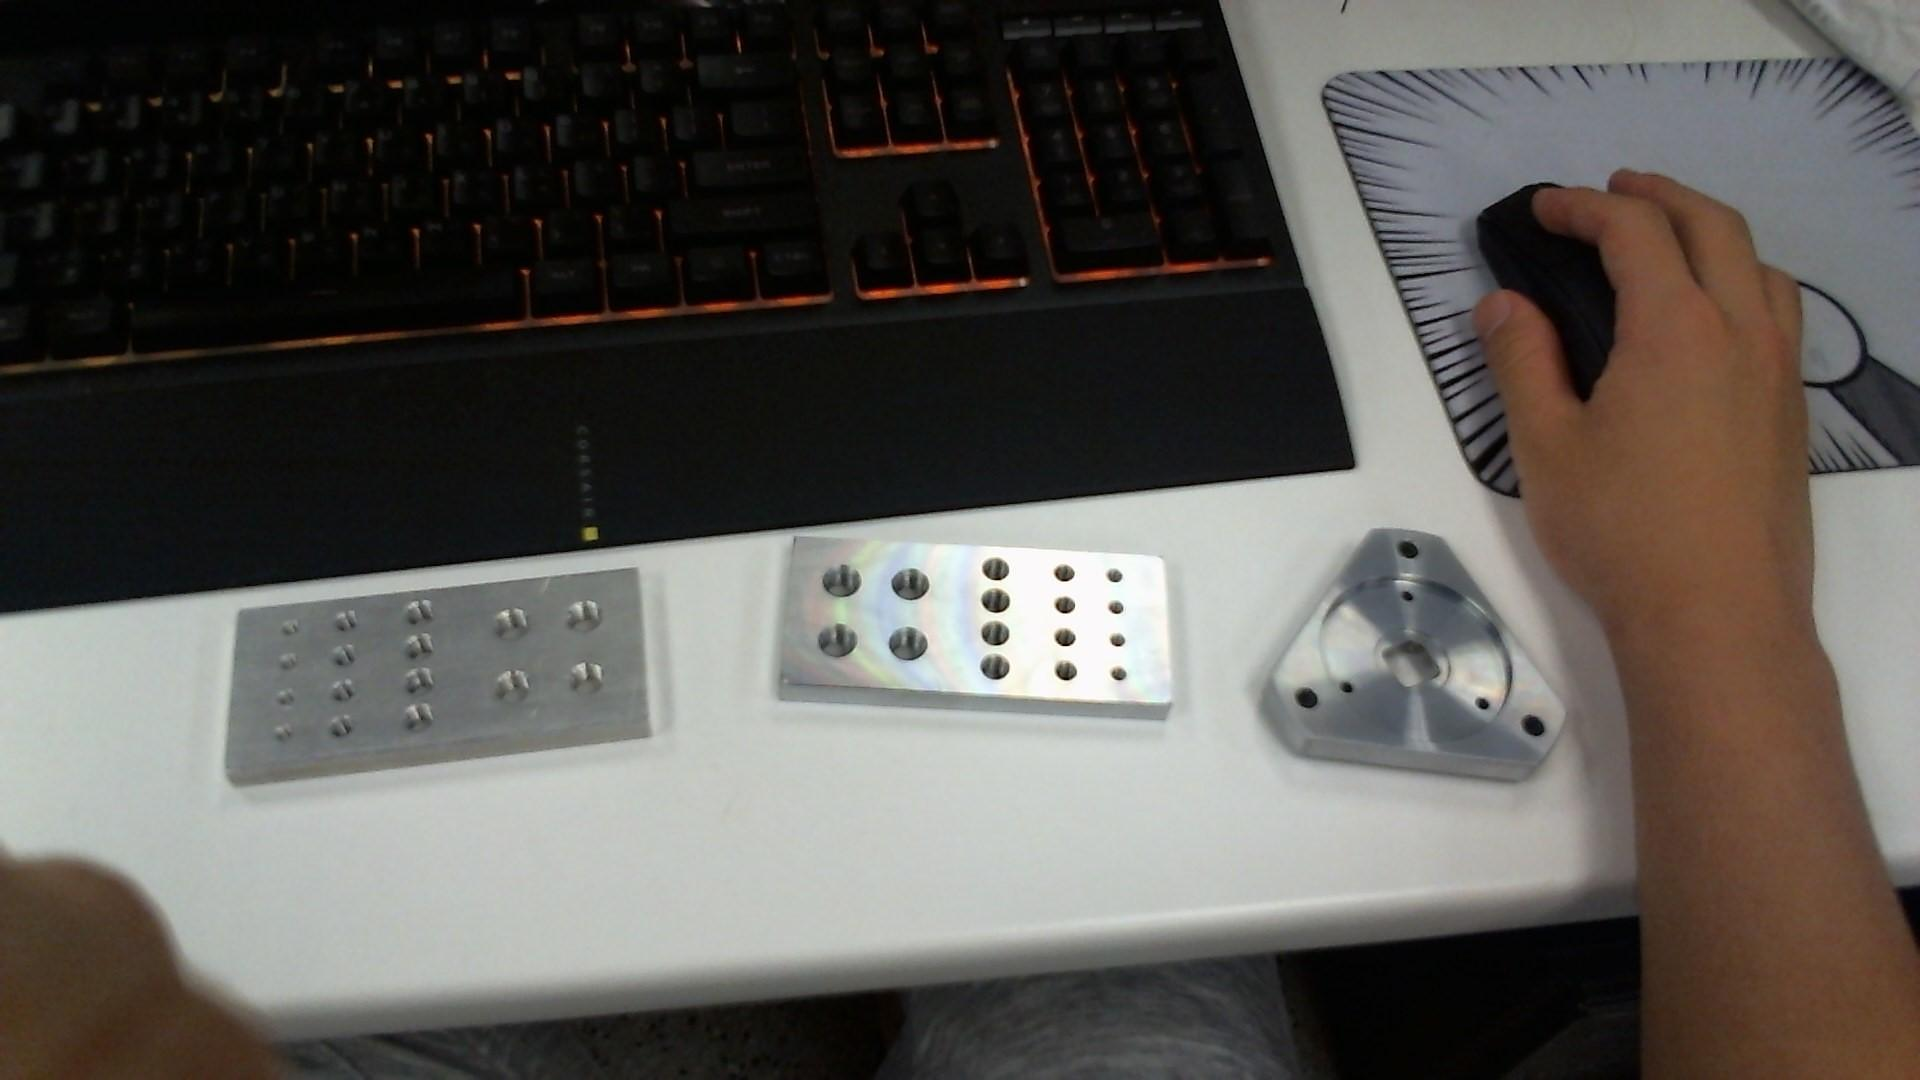hole: (818, 621, 862, 662), (560, 593, 603, 632), (489, 605, 529, 645), (889, 564, 928, 604), (567, 659, 604, 699), (890, 624, 927, 663), (823, 562, 860, 597), (495, 670, 533, 704), (401, 704, 439, 736), (402, 599, 440, 626), (981, 585, 1014, 616), (1291, 683, 1320, 715), (400, 632, 433, 659), (405, 666, 439, 692), (1520, 712, 1545, 748), (327, 713, 356, 741), (982, 621, 1010, 650), (982, 553, 1009, 583), (981, 654, 1007, 682), (327, 676, 356, 702), (332, 608, 360, 633), (336, 644, 363, 669), (1052, 658, 1079, 683), (1395, 538, 1420, 560), (277, 654, 298, 679), (1054, 564, 1079, 584), (1055, 596, 1077, 617), (1054, 625, 1076, 646), (276, 616, 295, 640), (1396, 585, 1416, 608), (1106, 599, 1129, 617), (277, 688, 295, 708), (1474, 694, 1494, 712), (277, 724, 293, 745), (1337, 680, 1353, 702), (1112, 663, 1129, 682), (1105, 567, 1121, 587), (1110, 632, 1126, 650)
